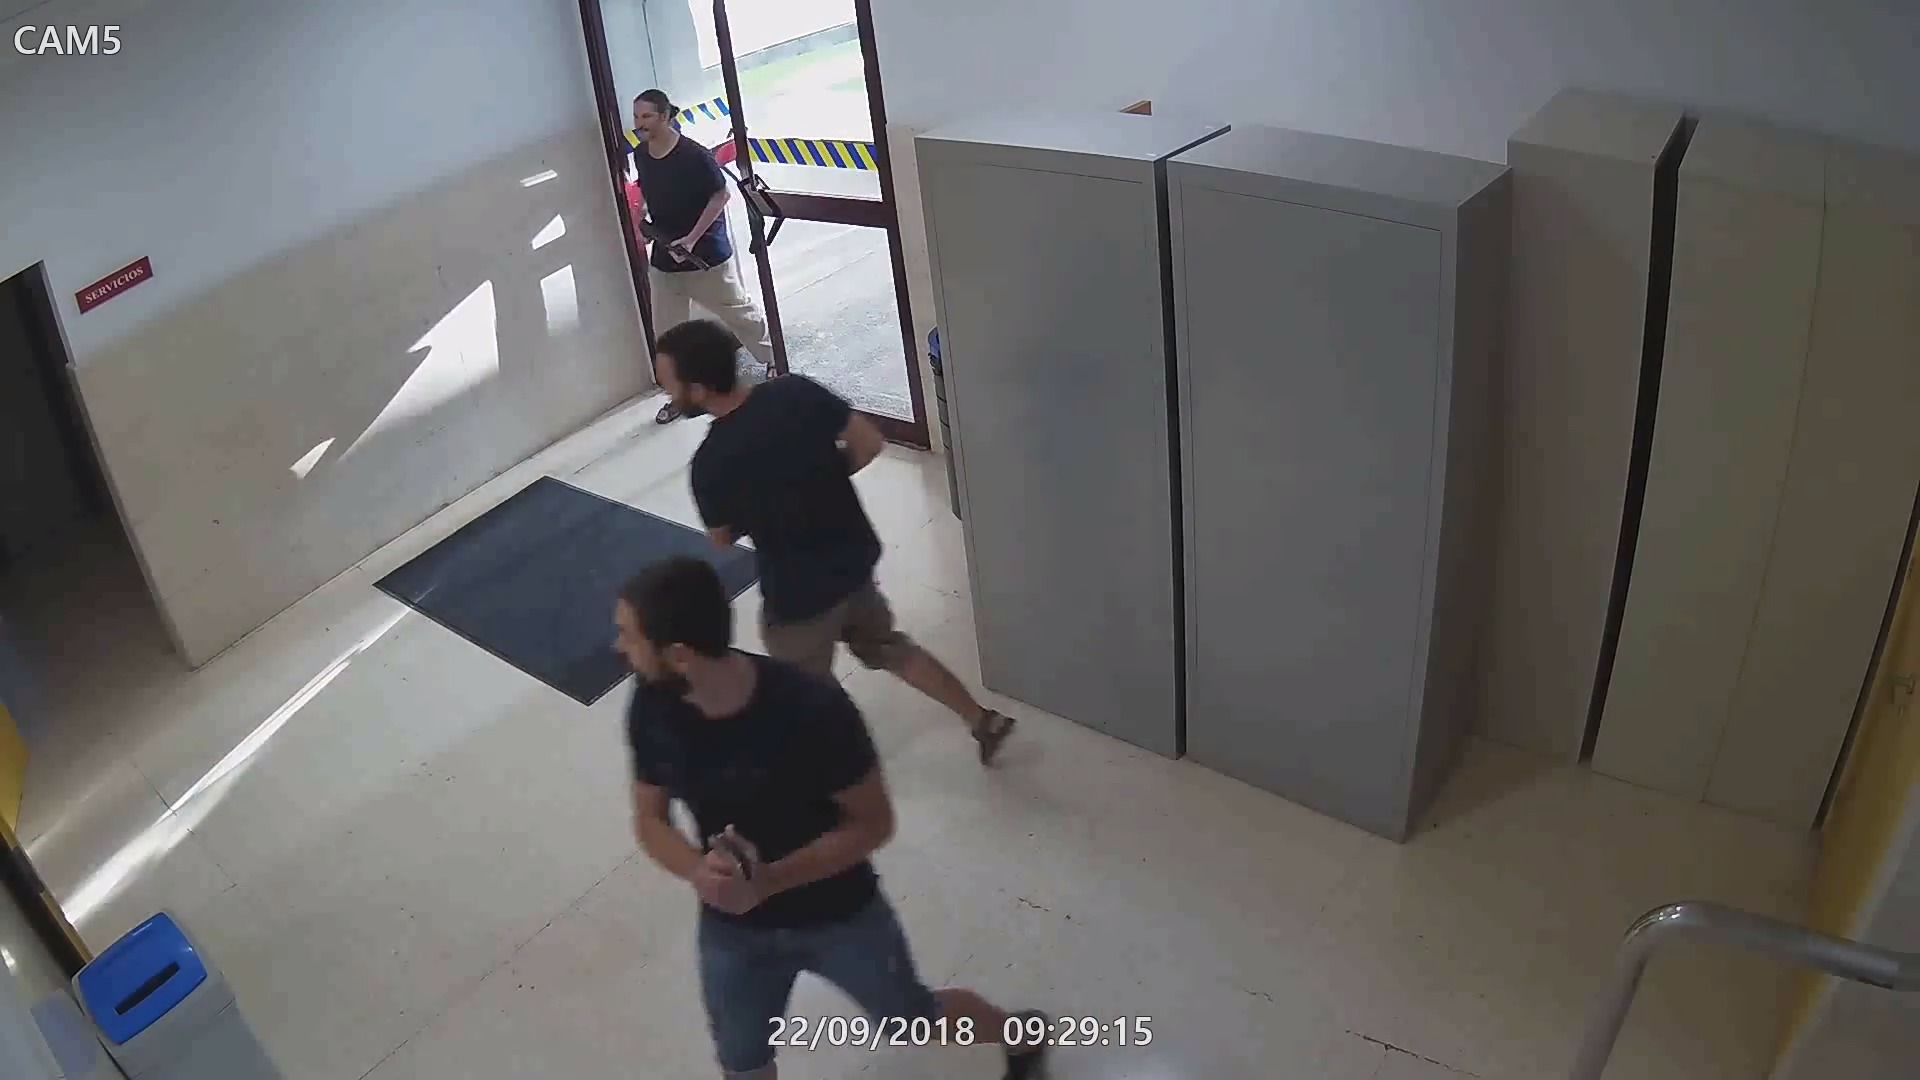Handgun: (696, 825, 766, 922)
Short_rifle: (628, 214, 715, 274)
